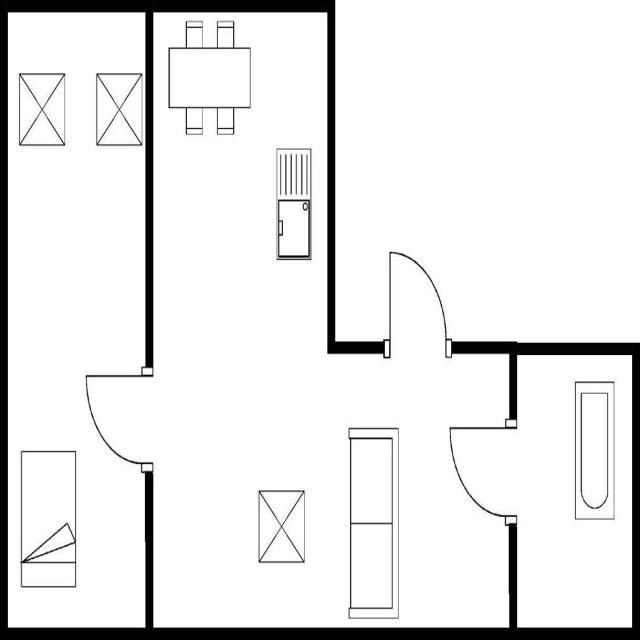bed: (18, 444, 79, 593)
coffee_table: (93, 67, 145, 151), (256, 484, 308, 568), (16, 69, 68, 151)
dining_table: (165, 16, 253, 138)
large_sofa: (346, 423, 401, 622)
sink: (273, 144, 314, 264)
tub: (572, 376, 616, 524)
